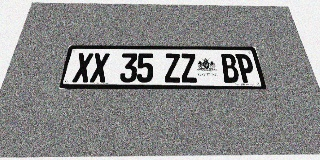3: (119, 53, 137, 82)
5: (137, 53, 153, 82)
B: (220, 54, 240, 83)
P: (235, 54, 257, 83)
X: (72, 53, 93, 82), (89, 53, 110, 82)
Z: (180, 54, 198, 83), (164, 53, 181, 82)
